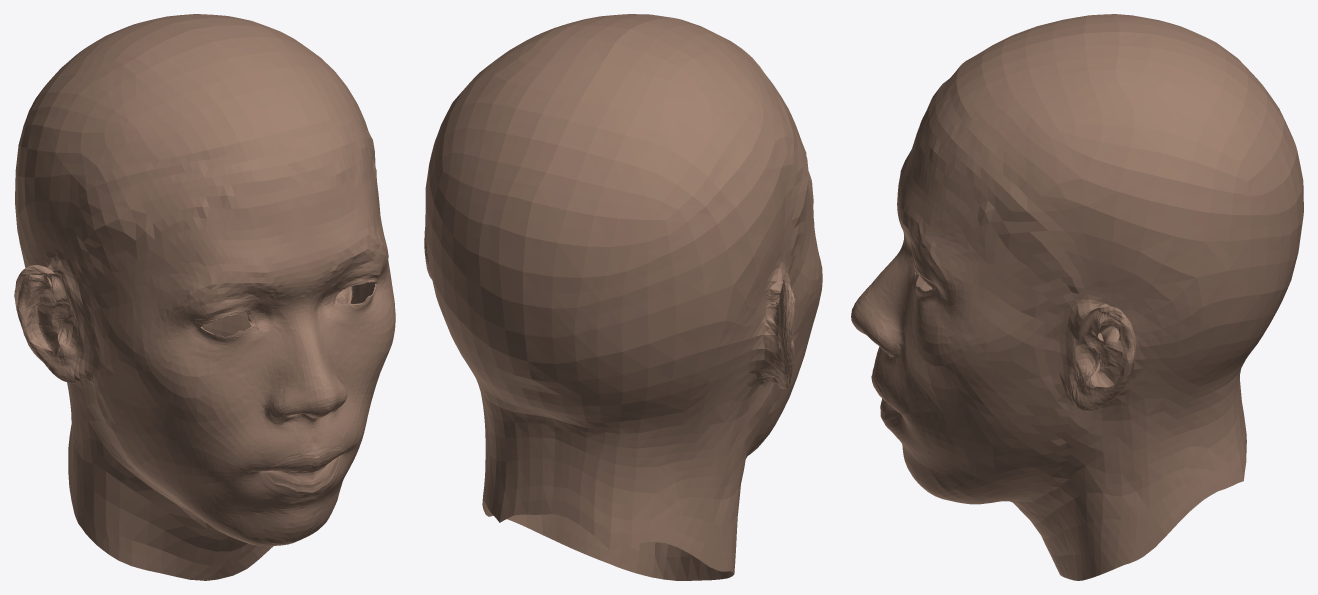
The model's file is semantic_icp_wrapped.obj.
3 renders of one model, left to right at view 1: azimuth 30°, elevation 25°; view 2: azimuth 150°, elevation 25°; view 3: azimuth 270°, elevation 25°, orthographic. The views are drawn at different scales.
Bounding box in the file's own units: 1.37 × 2 × 1.54.
